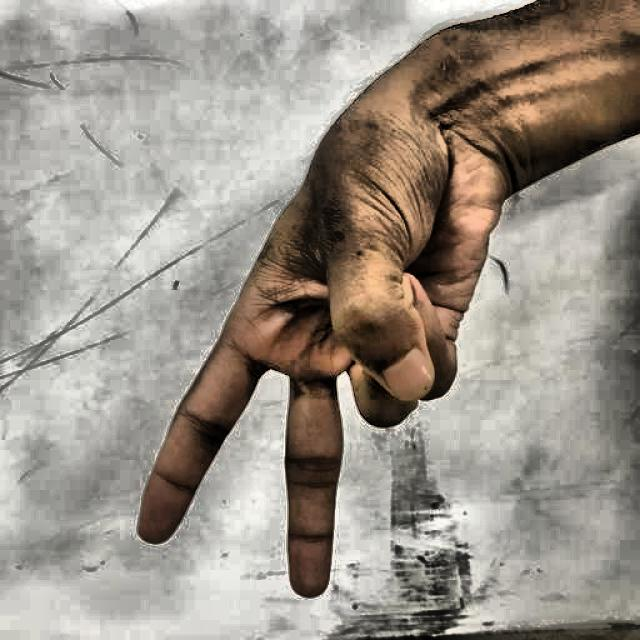Pa: (107, 70, 518, 621)
